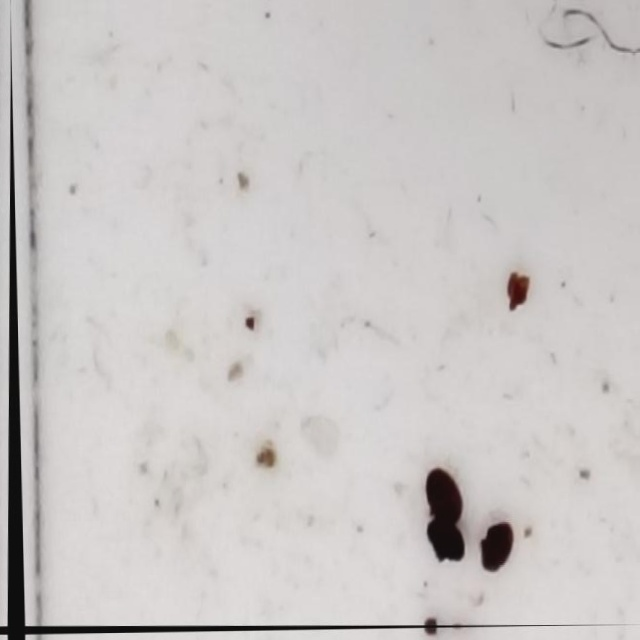varroa: (420, 465, 459, 526), (419, 516, 462, 568), (476, 523, 516, 573)
